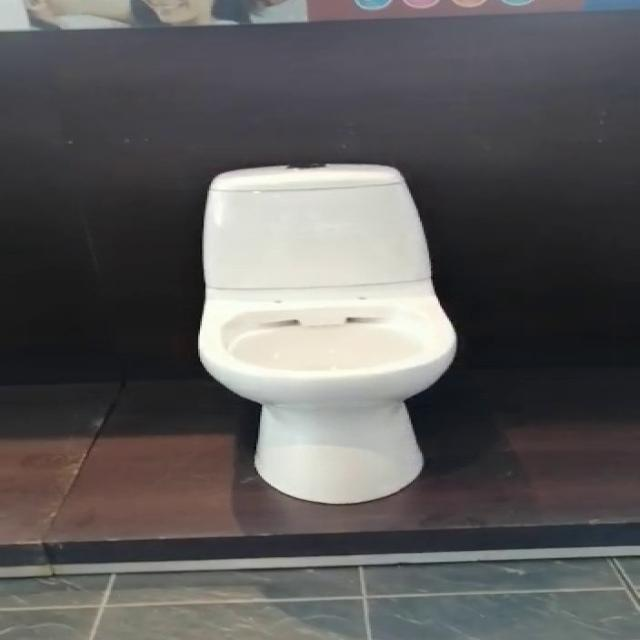toilet: (196, 162, 458, 504)
